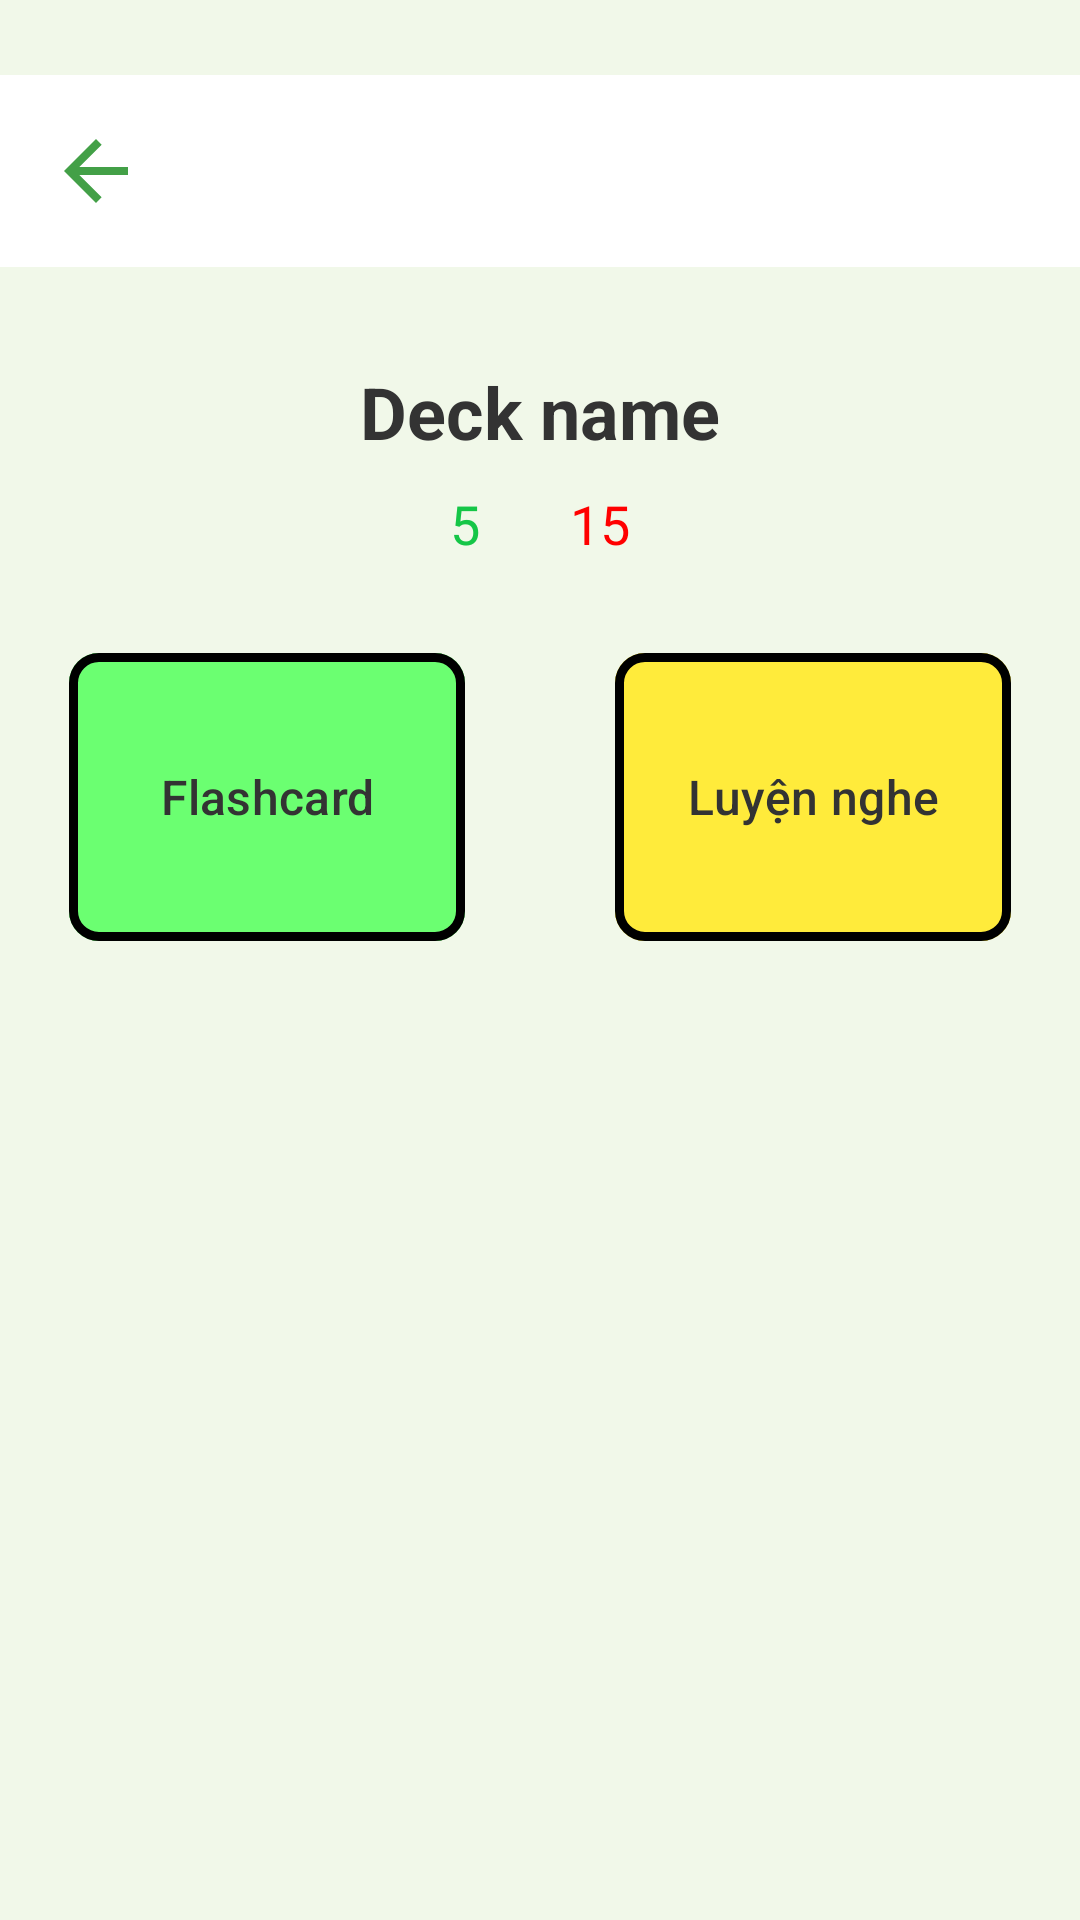

Icons on this 1080 × 1920 Android screen, each with its box as (x1, y1, x2, y2):
arrow back: (64, 139, 128, 203)
